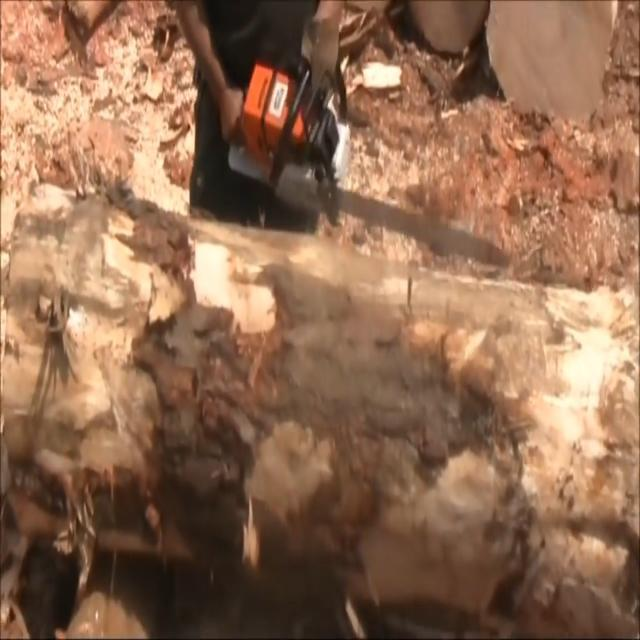Chainsaw: (192, 48, 534, 296)
